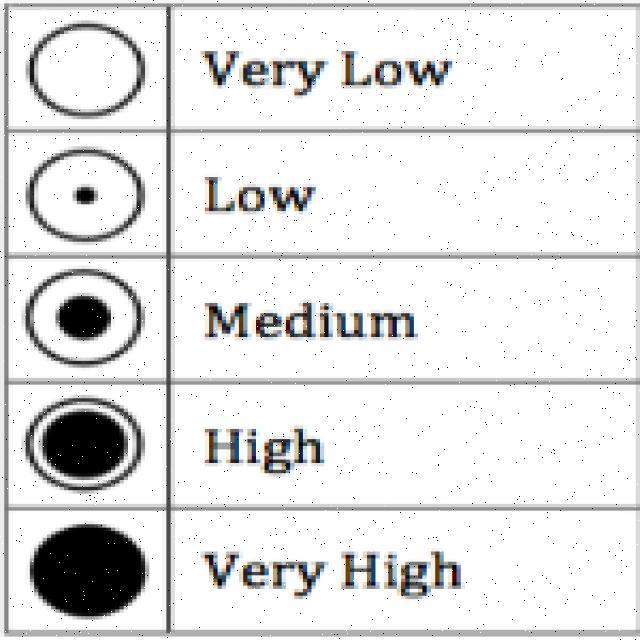Circle: (26, 18, 148, 118), (22, 266, 144, 366), (31, 525, 144, 614), (57, 292, 113, 340)
